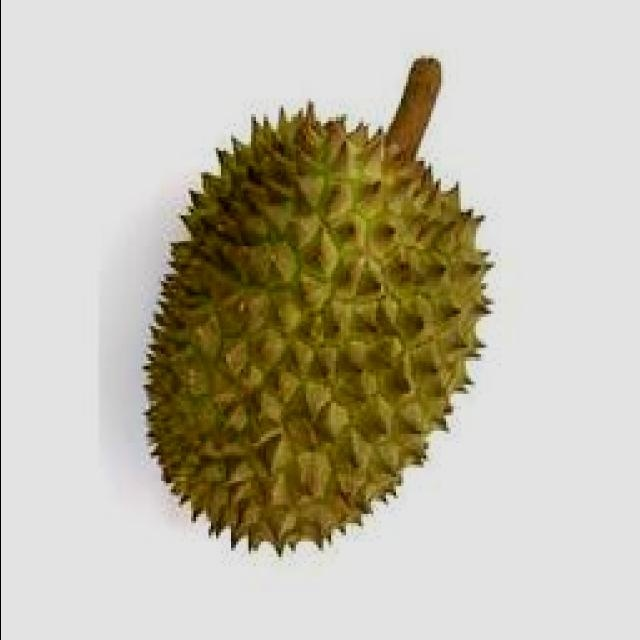agrume: (130, 51, 520, 576)
